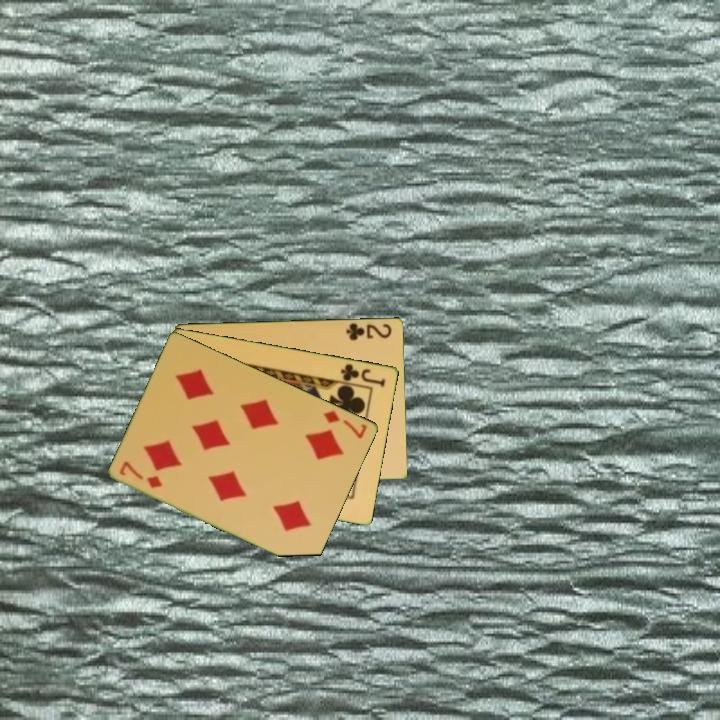2c: (343, 320, 394, 343)
7d: (320, 407, 370, 441), (116, 457, 166, 491)
Jc: (337, 360, 388, 390)
